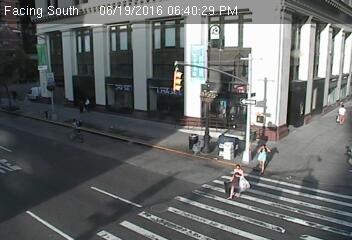neg: (114, 53, 149, 98), (46, 34, 75, 73), (11, 165, 39, 202), (64, 112, 90, 146), (87, 36, 111, 68), (35, 74, 49, 92), (67, 163, 79, 179)
pos: (221, 161, 253, 204), (249, 139, 278, 177), (333, 100, 351, 129), (80, 95, 98, 118)
